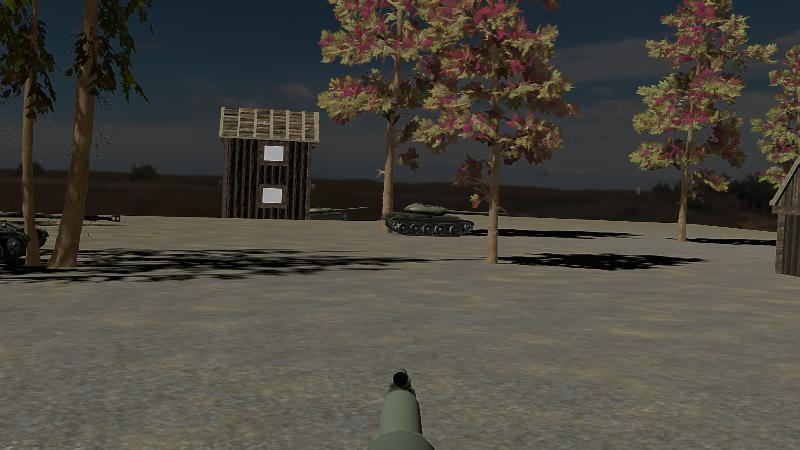House: (219, 106, 320, 222), (768, 139, 800, 283)
Tank: (0, 201, 121, 270), (382, 199, 500, 239)
